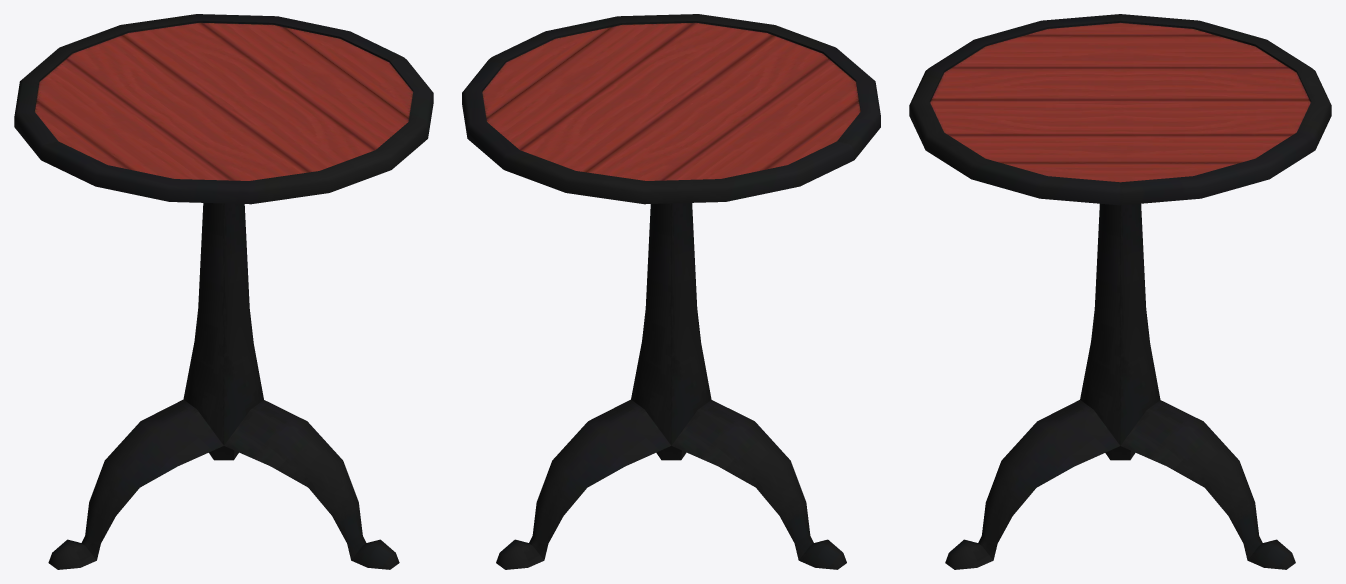
The picture shows the model from 3 angles, left to right: view 1: azimuth 30°, elevation 25°; view 2: azimuth 150°, elevation 25°; view 3: azimuth 270°, elevation 25°; orthographic projection.
Parts seen in each view (by area): view 1: body0_model0_lod0_mesh1, body0_model0_lod0_mesh0; view 2: body0_model0_lod0_mesh1, body0_model0_lod0_mesh0; view 3: body0_model0_lod0_mesh1, body0_model0_lod0_mesh0.
Part boxes in pixels (left/top/right/bottom): body0_model0_lod0_mesh1: left=14, top=14, right=433, bottom=569; body0_model0_lod0_mesh0: left=34, top=22, right=413, bottom=180; body0_model0_lod0_mesh1: left=462, top=14, right=880, bottom=569; body0_model0_lod0_mesh0: left=482, top=22, right=860, bottom=180; body0_model0_lod0_mesh1: left=909, top=14, right=1331, bottom=569; body0_model0_lod0_mesh0: left=930, top=22, right=1310, bottom=182.
Bounding box in the file's own units: 36.53 × 40.42 × 36.53.
Materials: 2 (2 with a texture image).
